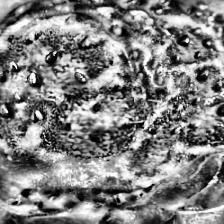Anthracnose Fruit Rot: (0, 10, 224, 208)
